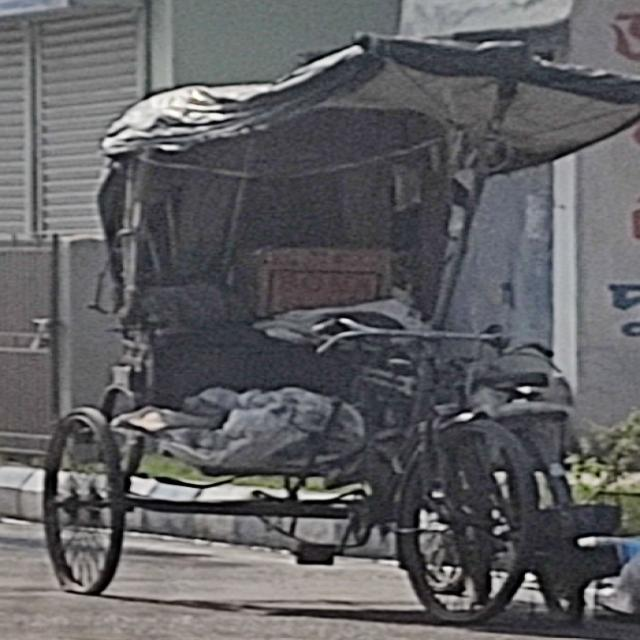rickshaw: (44, 33, 640, 632)
